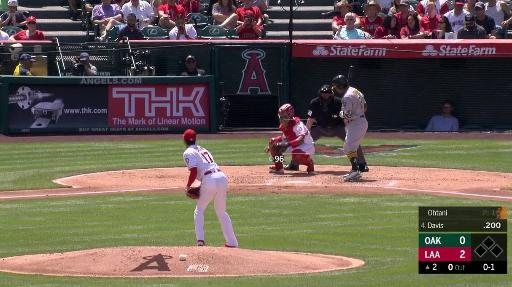pitcher: (181, 128, 240, 248)
